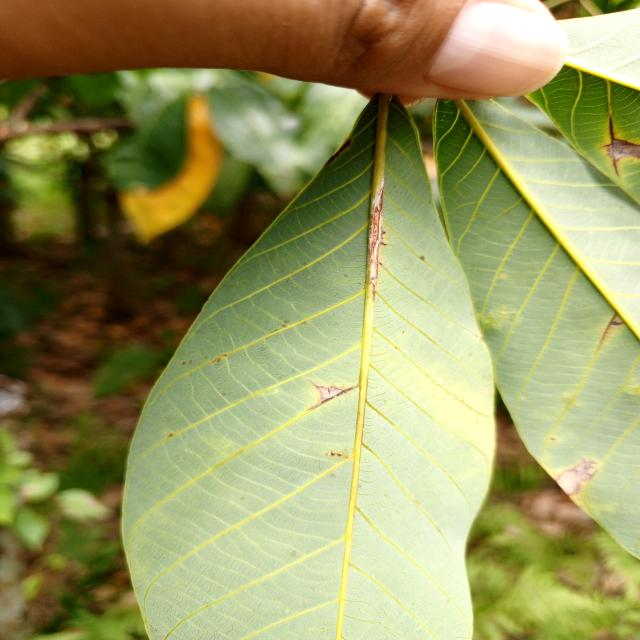Corynespora: (601, 114, 639, 178), (305, 380, 355, 410), (594, 312, 622, 351)
Leaf-Blight: (556, 461, 596, 495), (609, 141, 640, 158)
